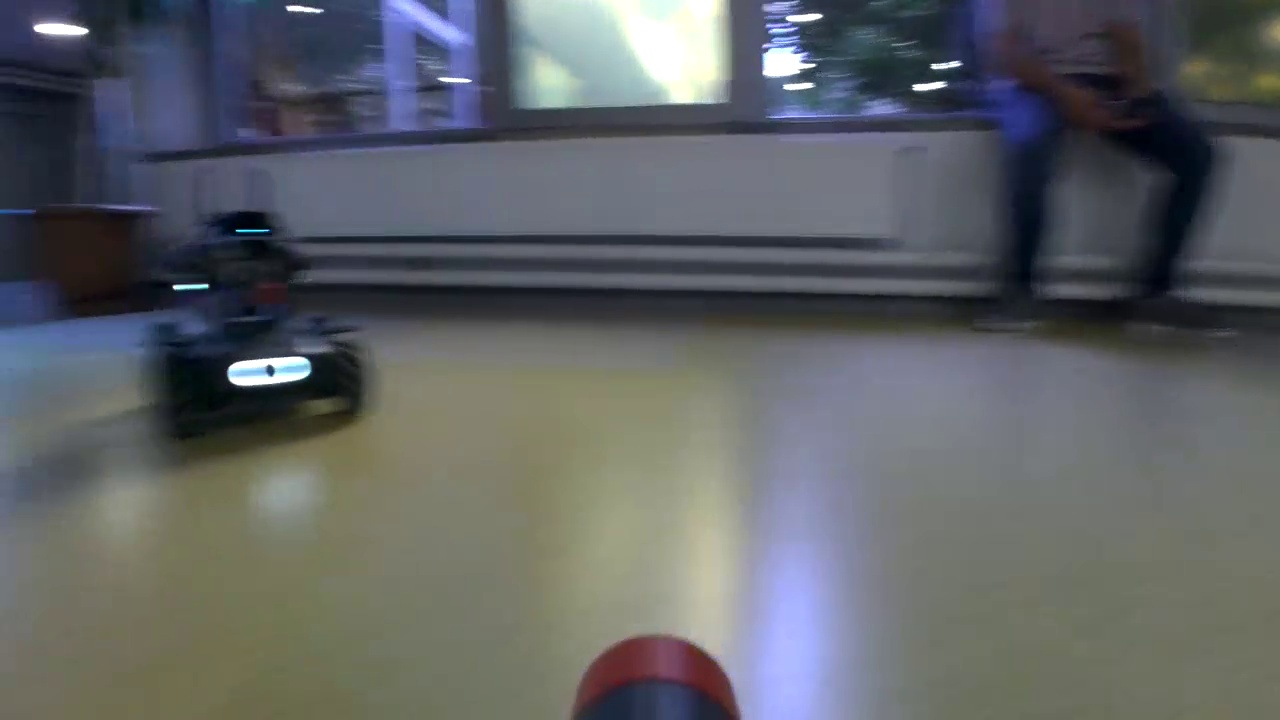robot: (138, 198, 392, 440)
